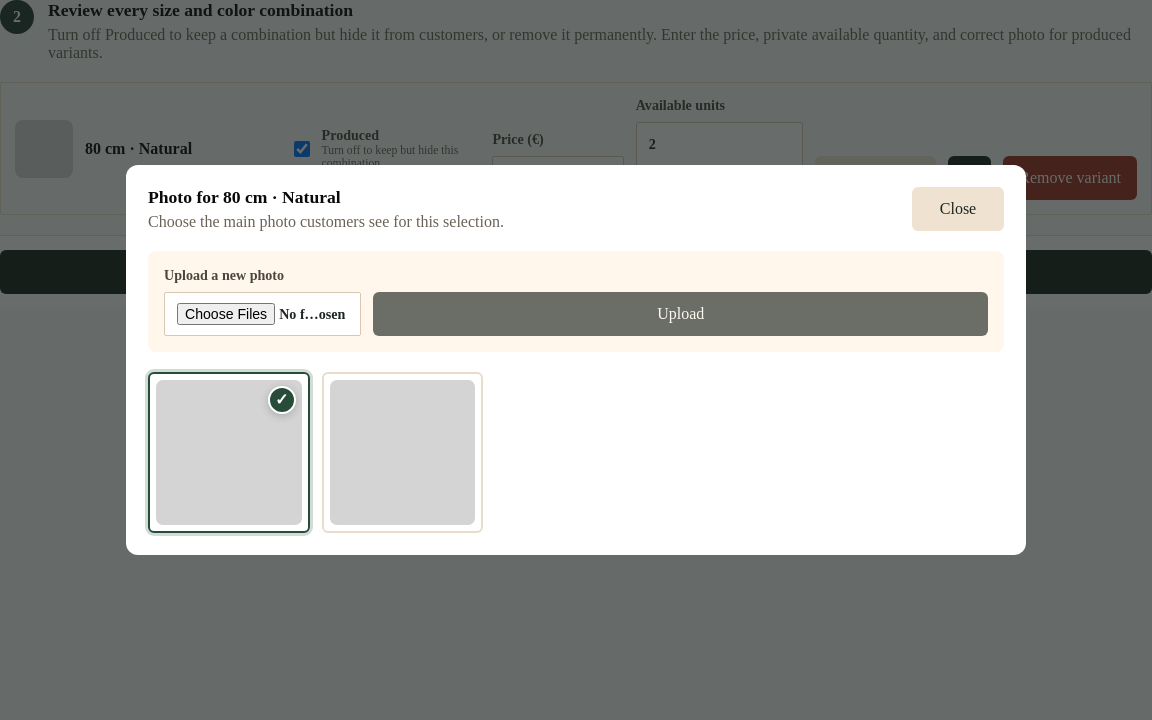
Scenario: ProductVariantMatrixComponent › changes the selected variant photo and marks the chosen tile
What coordinates should you click on to do the following:
click the 4th button
I would click on:
 (402, 452)
Its box is [322,372,483,533].
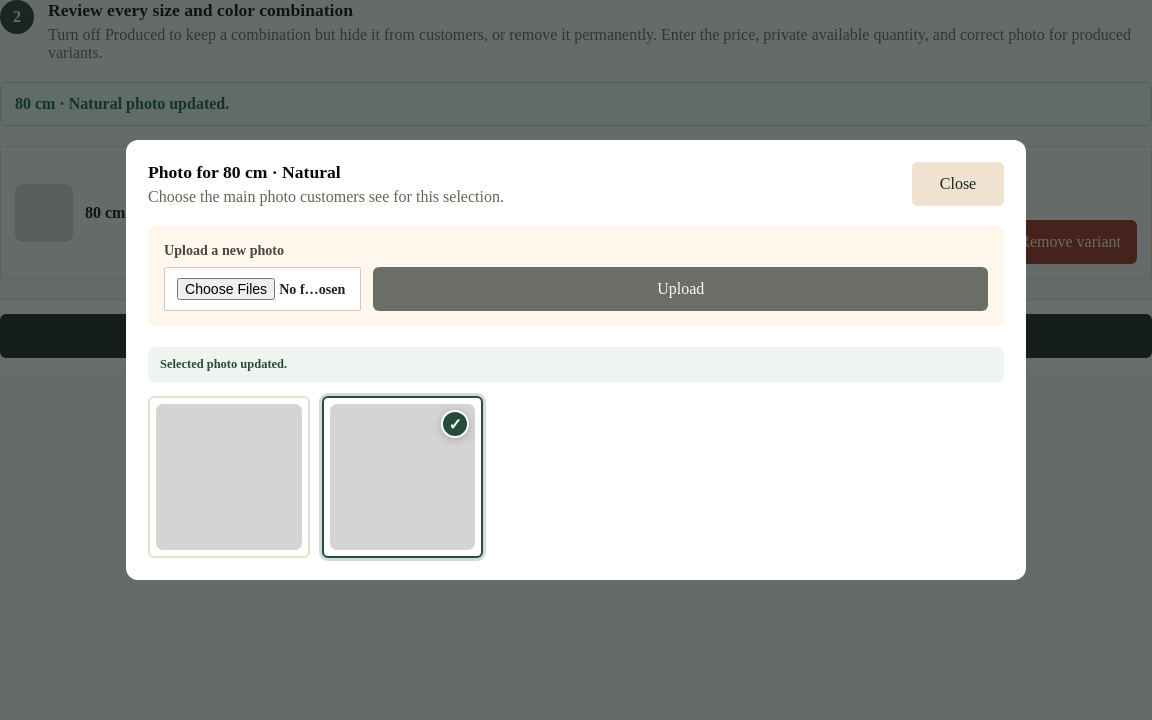
Now the text "Selected photo updated." is shown, box [148,347,1004,382]
